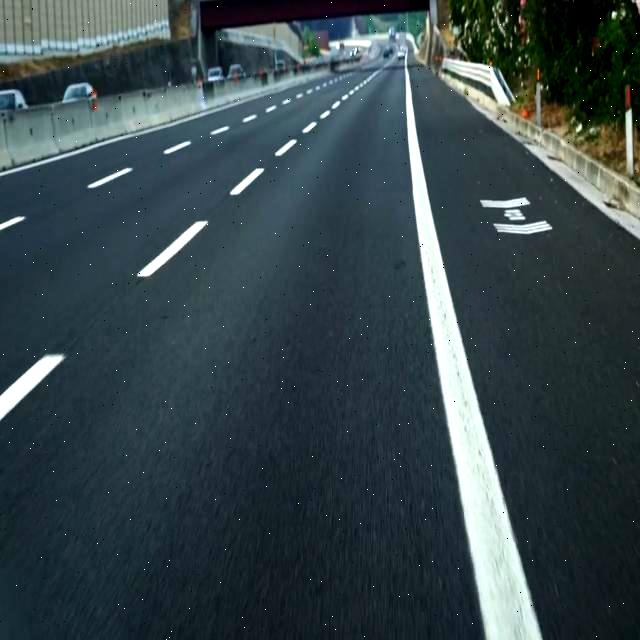lane: (406, 65, 541, 639), (0, 111, 218, 177), (0, 355, 65, 419), (138, 222, 208, 278), (88, 168, 132, 189), (230, 168, 264, 195)
road: (0, 65, 484, 639), (410, 68, 639, 639)
